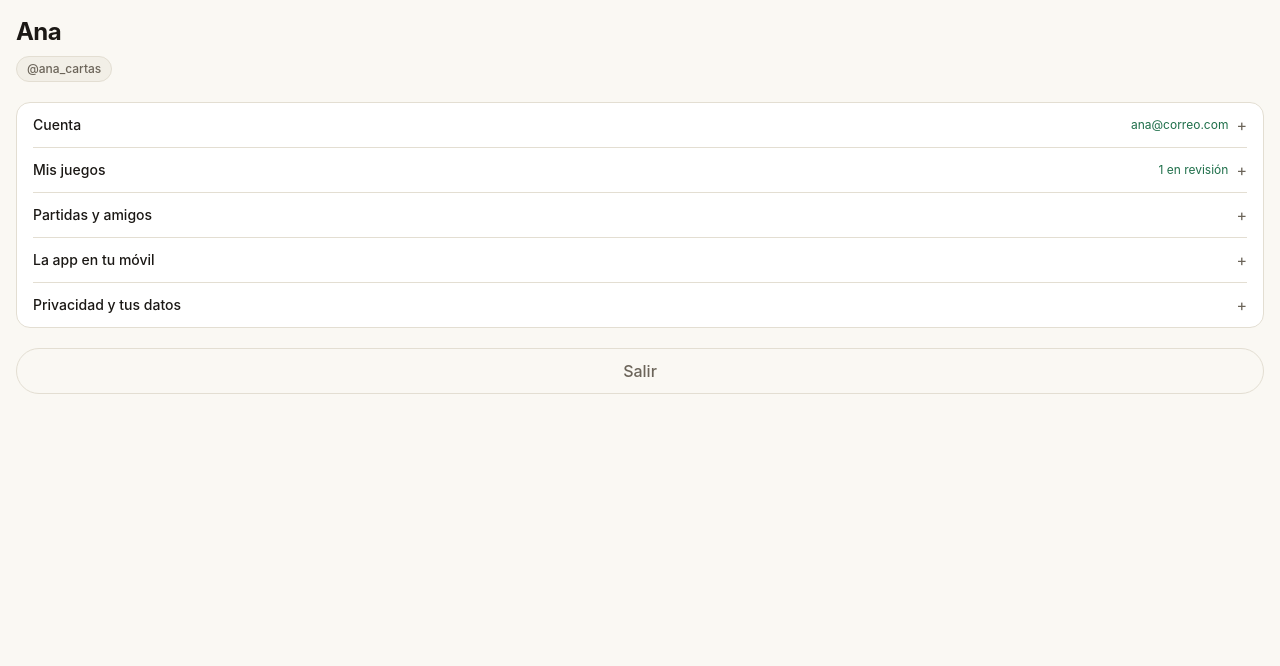
Scenario: el perfil, en desplegables › el usuario se puede cambiar, que antes estaba clavado
Click the button "Cuenta ana@correo.com +" at [57, 124], box [33,103,1247,147]
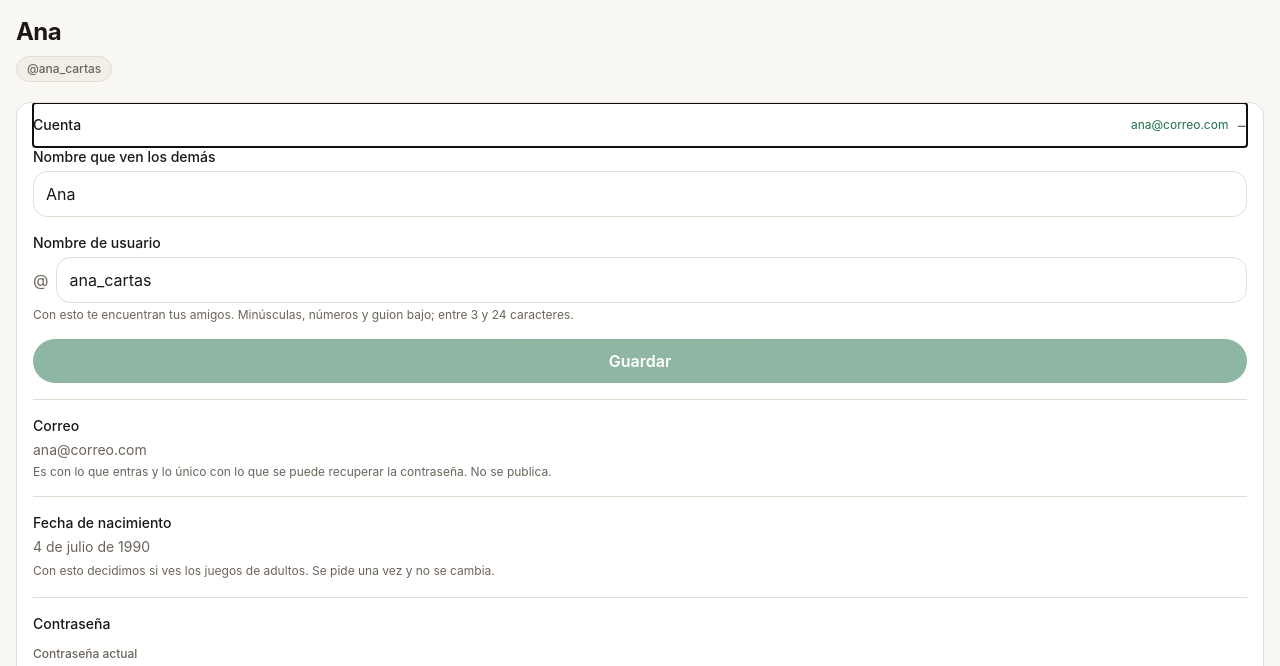
expect the field labelled "Nombre de usuario" is enabled: met
Replace the text in the field labelled "Nombre de usuario" with "ana_la_del_mus" at [652, 280], box [56,257,1247,303]
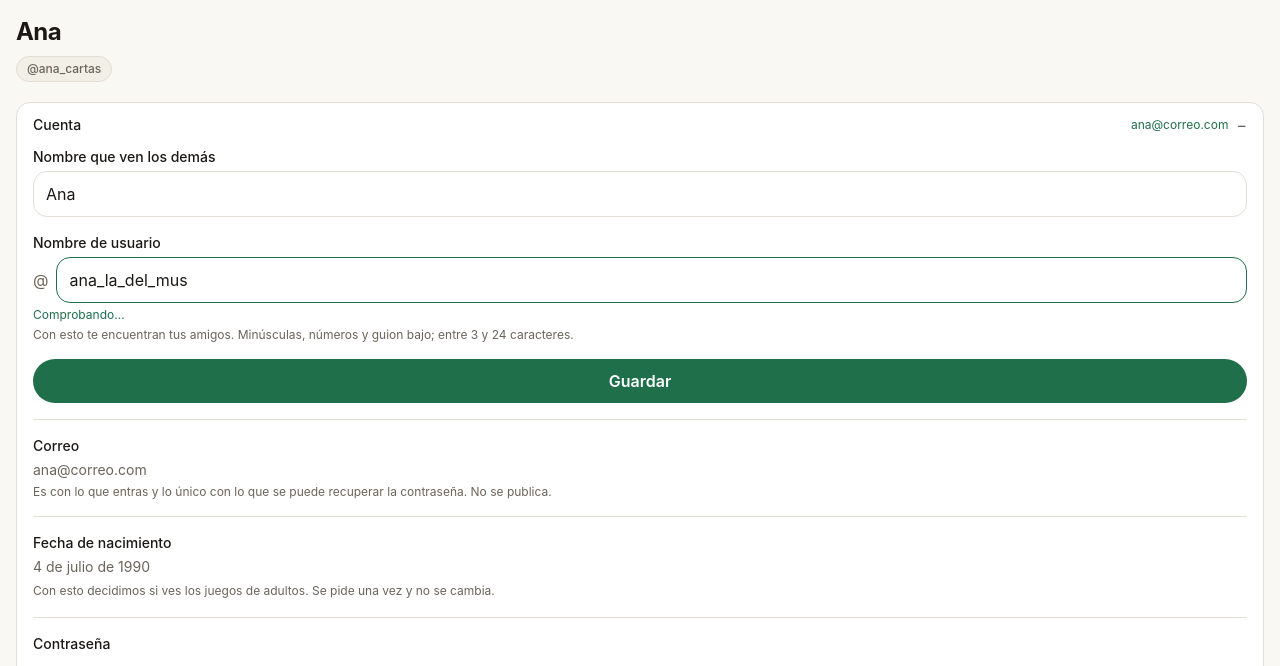
expect the button "Guardar" is enabled: met, box [33,359,1247,403]
